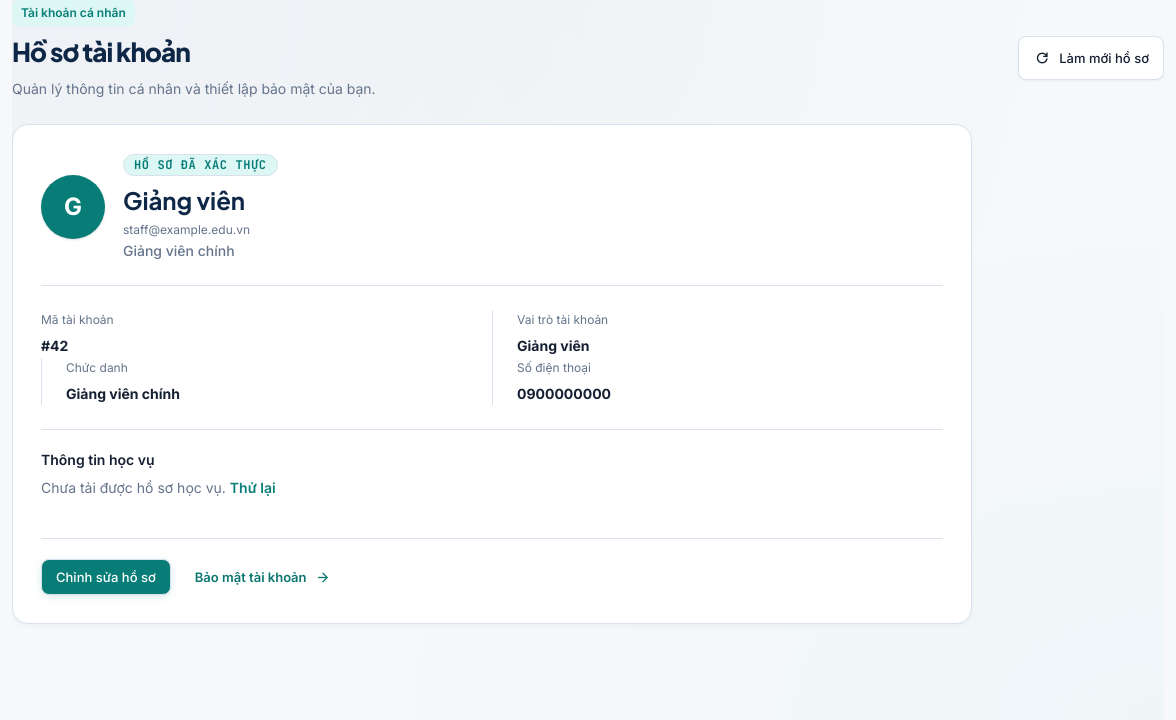
Test case: ProfilePage › waits for a late profile response before mounting the edit form
Click the button "Chỉnh sửa hồ sơ" at (106, 577), box [41, 559, 171, 595]
(page scrolled)
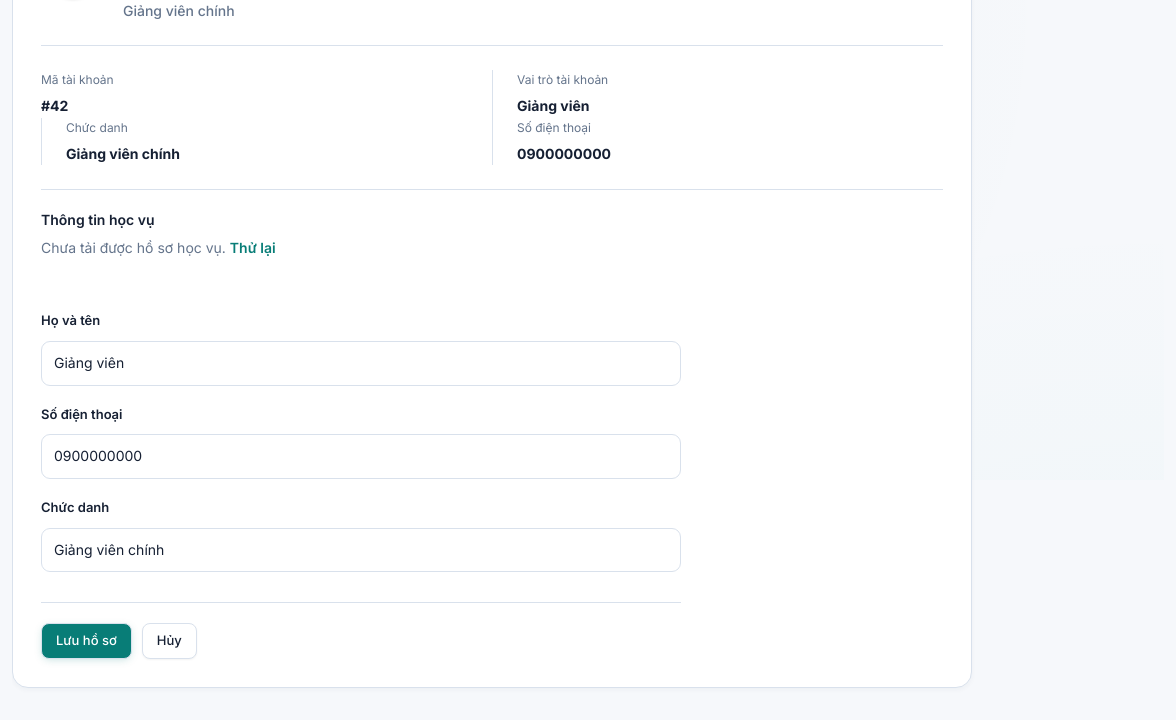
Check: the field labelled "Số điện thoại" holds "0900000000", box [41, 434, 681, 479]
Check: the field labelled "Chức danh" holds "Giảng viên chính", box [41, 528, 681, 572]
